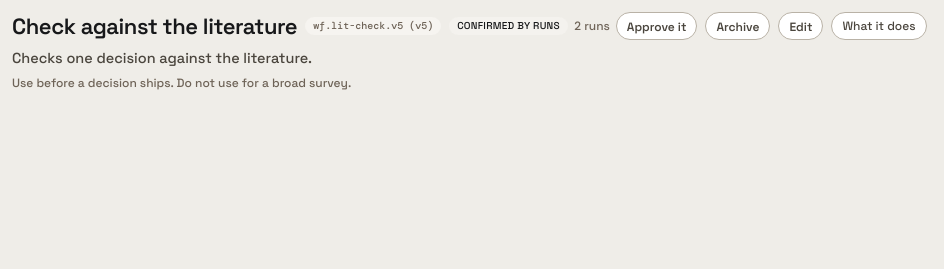
Test: WorkflowHeader › cancelling an edit discards it and restores the card's own words
Click the button "Edit" at point(801, 26), box [778,12,823,40]
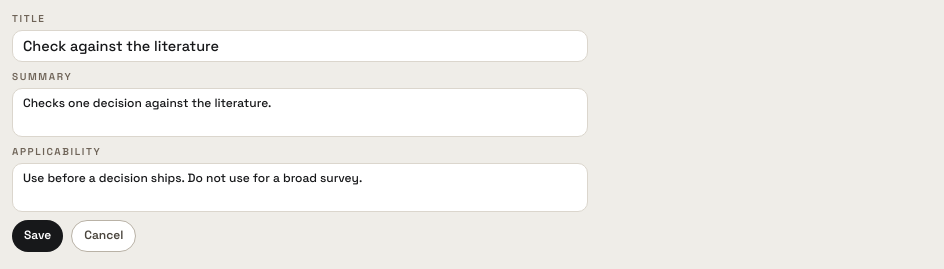
Replace the text in the field named "Title" with "Abandoned edit" at point(300, 46), box [12,30,588,62]
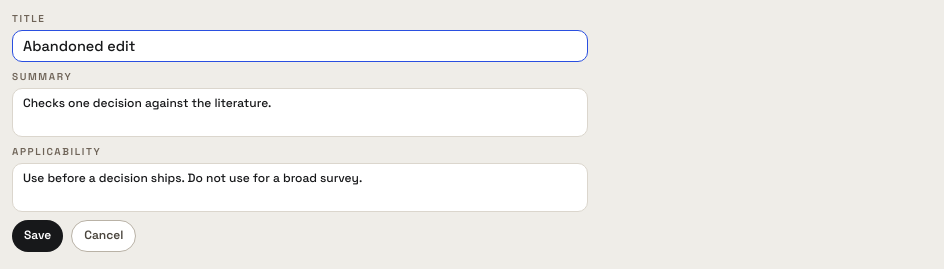
Click the button "Cancel" at point(104, 236), box [71,220,136,252]
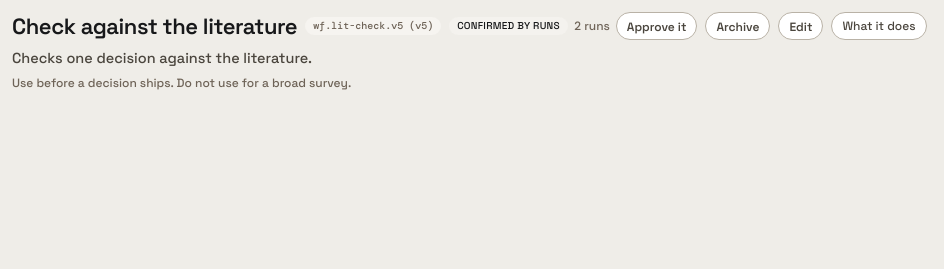
Expected: the text "Abandoned edit" is not shown
Now the heading "Check against the literature" is shown, box [12,12,297,41]
